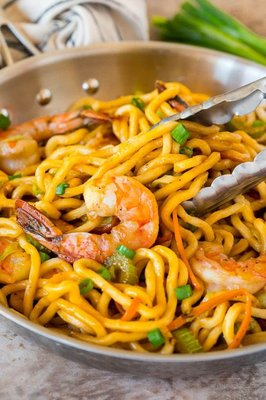curry: (150, 0, 266, 67)
